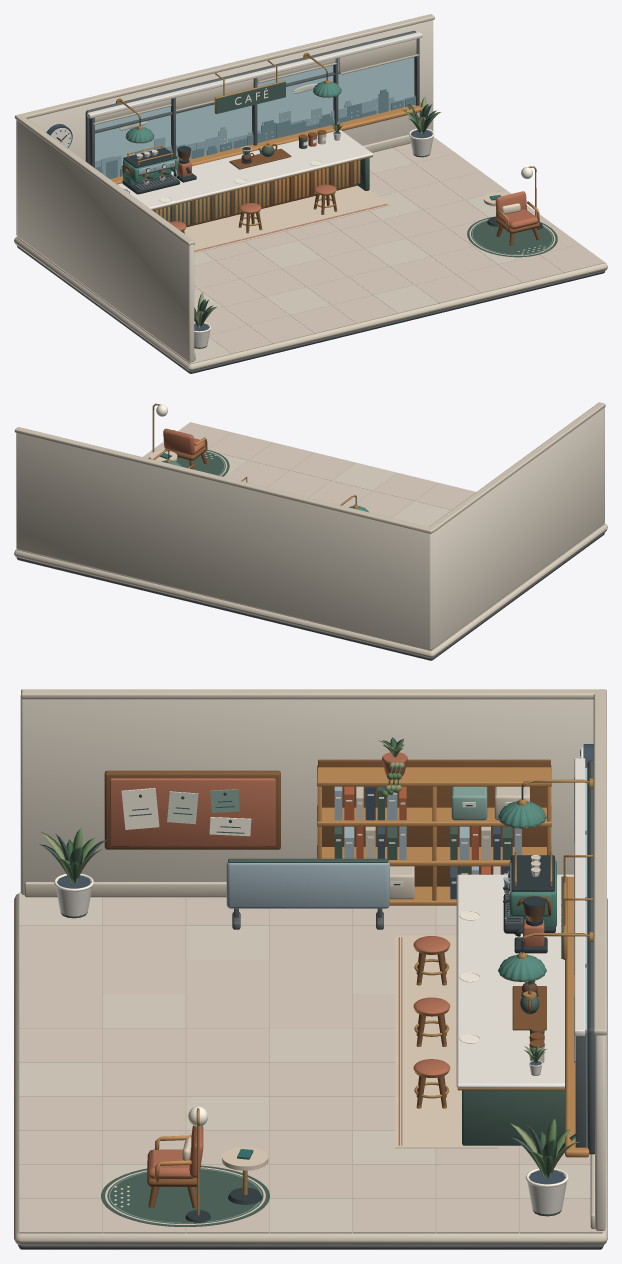
File: room.glb
The picture shows the model from 3 angles, top to bottom: view 1: azimuth 30°, elevation 25°; view 2: azimuth 150°, elevation 25°; view 3: azimuth 270°, elevation 25°; orthographic projection. The views are drawn at different scales.
Visible parts, largest first — view 1: Studio; view 2: Studio; view 3: Studio.
Boxes of the visible parts, x1=… form: Studio: x1=14, y1=14, x2=607, y2=373; Studio: x1=14, y1=402, x2=607, y2=660; Studio: x1=14, y1=689, x2=607, y2=1249.
Bounding box in the file's own units: 12.14 × 3.64 × 8.85.
